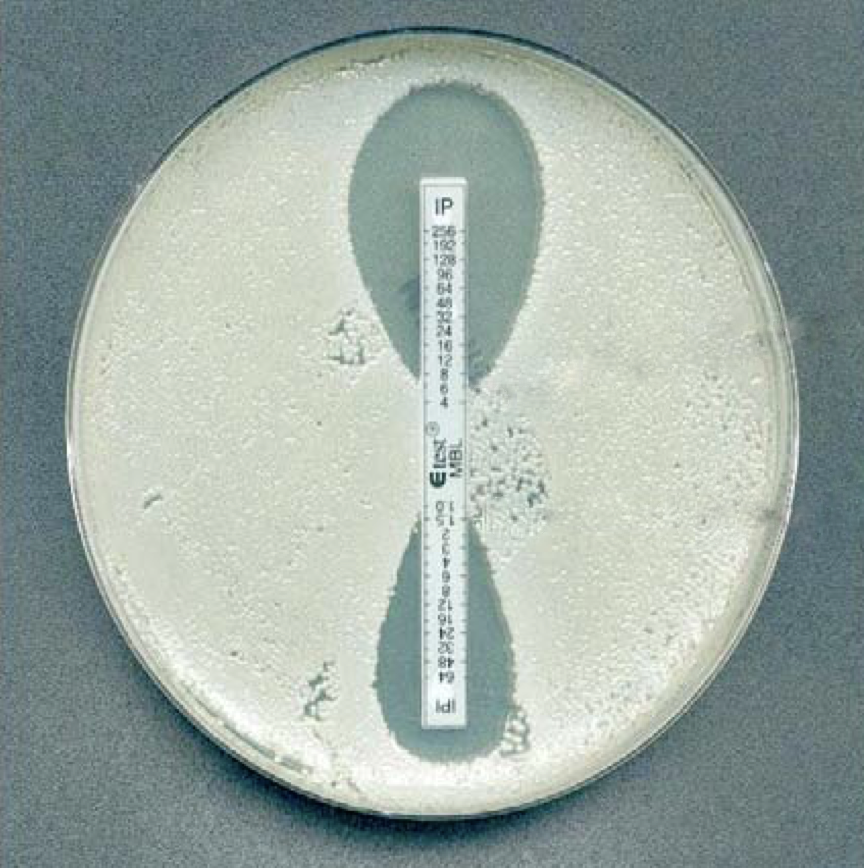line: (420, 491, 470, 730), (420, 176, 469, 414)
zone: (348, 85, 541, 378), (375, 523, 514, 763)
